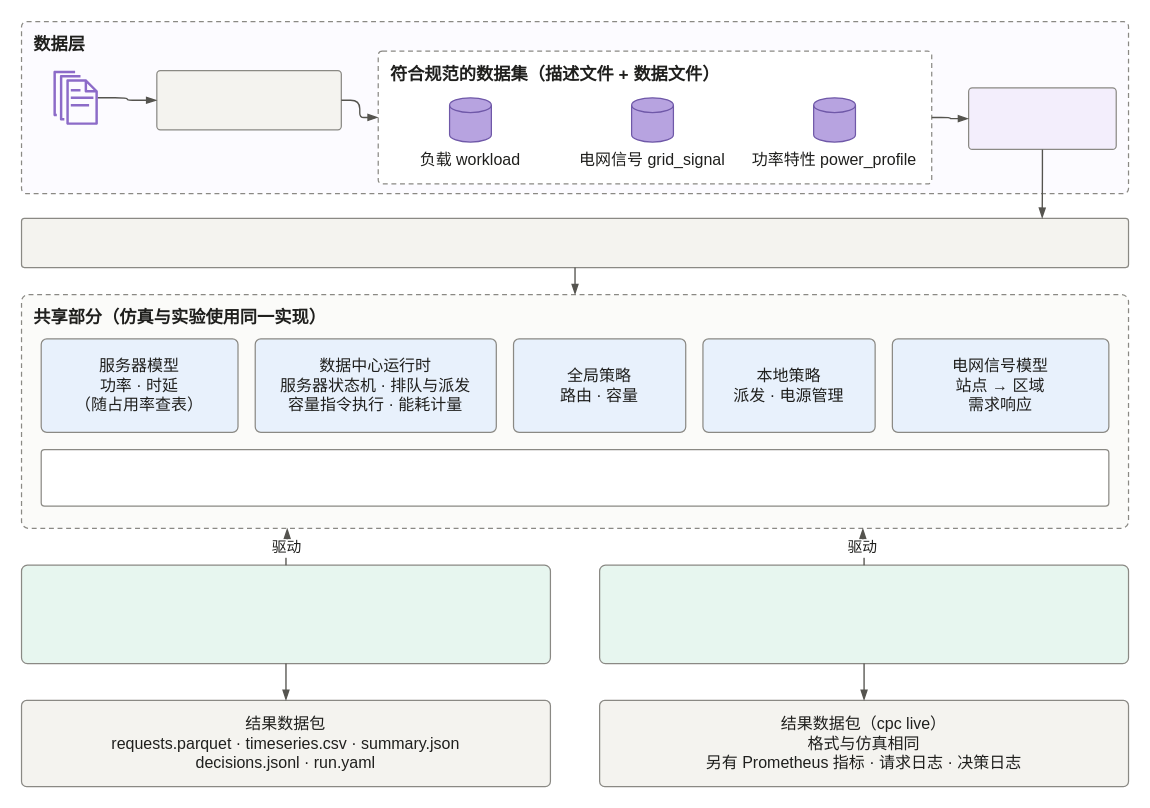
The diagram is 1150 pixels wide and 808 high, and some of its shapes have lost their labels. Here are the shapes that lost their labels. From the top down, the centre of each, then its label:
At [75,97]: "原始公开数据".
At [248,99]: "转换（用户完成） examples/datasets/".
At [1041,118]: "校验 · 列式加载 （类别规范）".
At [574,242]: "场景（YAML）：来源区域 · 站点与服务器池 · 服务器类型 · 网络时延 · 电网信号与需求响应 · 负载变换 · 策略".
At [574,477]: "指标定义与核算：设施电量 = IT 电量 × PUE；成本、碳排放按信号可用的时间片核算；SLO（TTFT、TPOT）".
At [285,614]: "仿真：离散事件仿真器 仿真时钟 · 事件队列 · 按服务器模型计时 全部服务器按模型仿真".
At [863,614]: "实验：服务进程（HTTP） 电网信号服务 · 网关 · 控制器 · 站点代理 · 负载生成器 真实时间 · 仿真服务器或真实推理实例 · 功率传感器".
